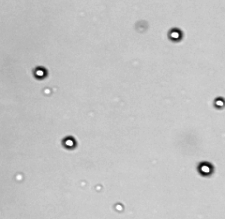Dead Cell: (135, 20, 150, 33)
Living Cell: (62, 135, 78, 150), (198, 161, 213, 176), (168, 27, 182, 41), (33, 66, 47, 79), (213, 96, 224, 108)
